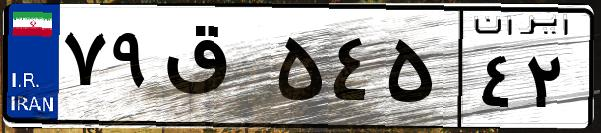2: (525, 38, 570, 115)
4: (330, 28, 385, 110), (475, 38, 525, 113)
5: (270, 28, 330, 110), (385, 28, 445, 110)
7: (57, 26, 110, 100)
9: (110, 28, 158, 98)
ق: (158, 20, 270, 120)
